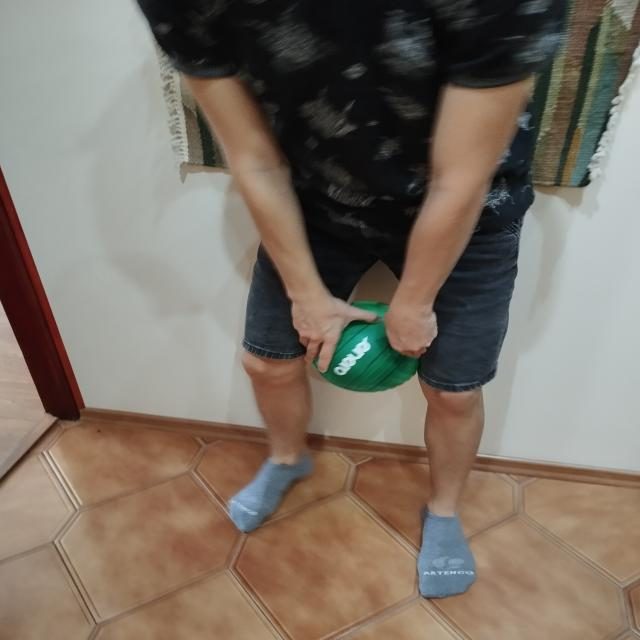zielona: (314, 300, 417, 392)
